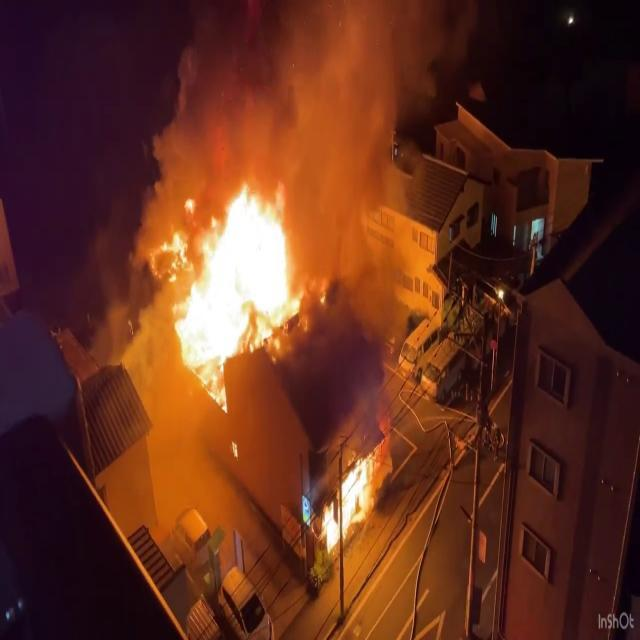Fire: (156, 168, 316, 394), (317, 438, 379, 558)
Smoke: (152, 0, 438, 211)
